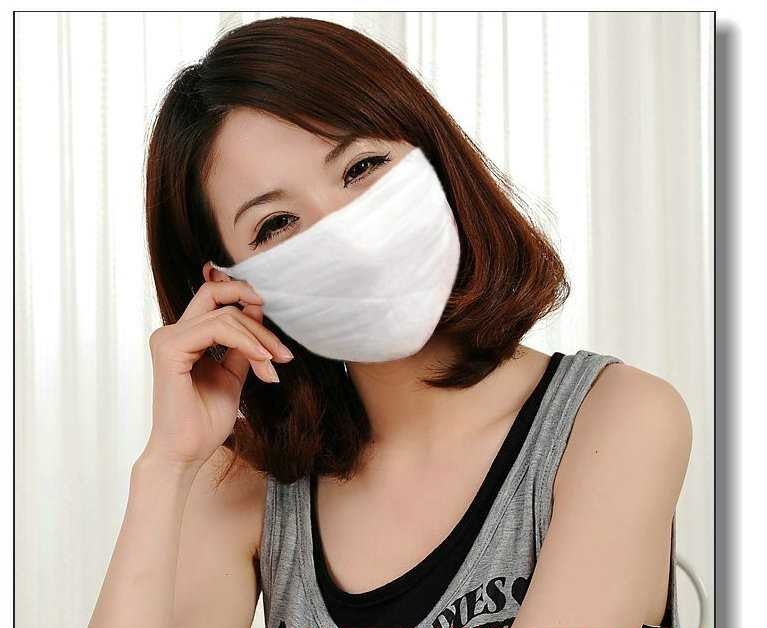face_mask: (236, 105, 458, 362)
